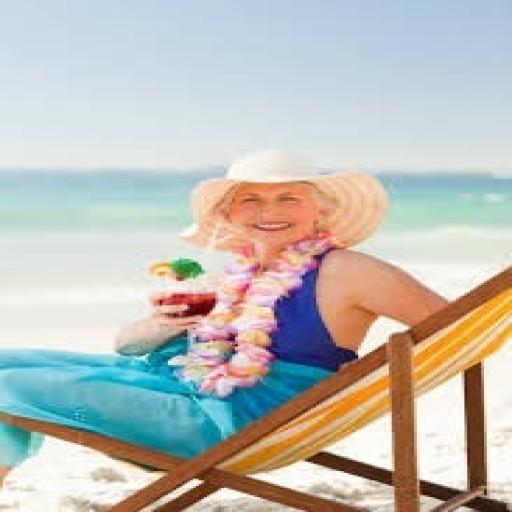drinking: (146, 257, 216, 316)
